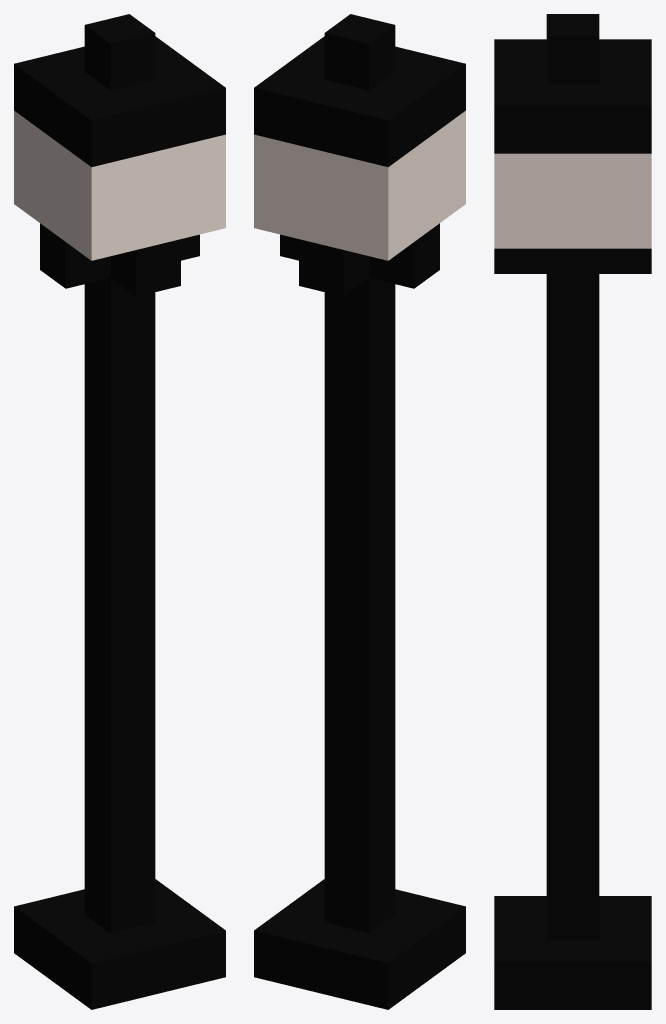
Rendered from old-street-light.obj.
The picture shows the model from 3 angles, left to right: view 1: azimuth 30°, elevation 25°; view 2: azimuth 150°, elevation 25°; view 3: azimuth 270°, elevation 25°; orthographic projection.
Bounding box in the file's own units: 3 × 20 × 3.
Materials: 1 (1 with a texture image).
